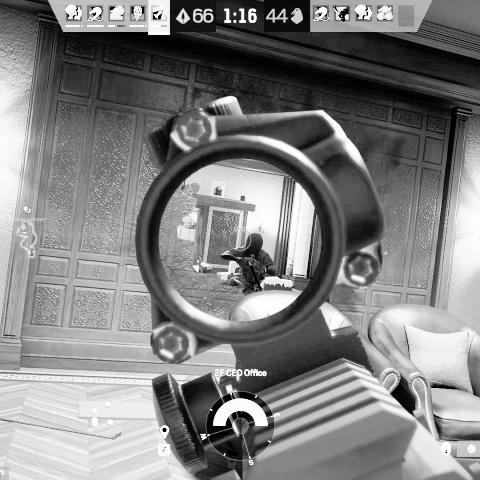Character: (221, 231, 278, 292)
Friend_label: (232, 210, 278, 232)
Head: (245, 232, 264, 258)
